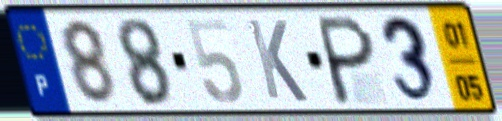3: (379, 11, 445, 108)
5: (182, 16, 245, 106)
8: (111, 14, 175, 109), (56, 16, 121, 107)
K: (244, 16, 312, 106)
P: (316, 12, 378, 108)
